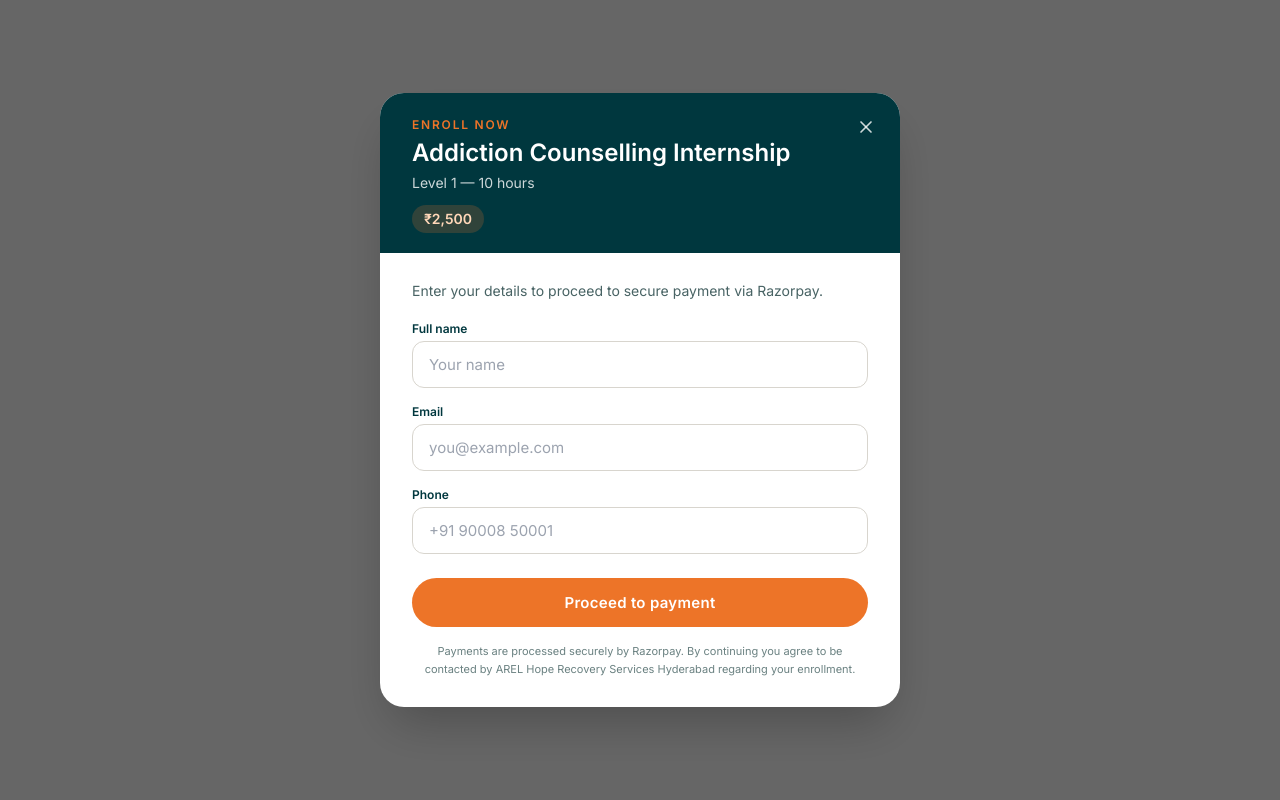
Test: EnrollmentModal › shows validation error for short name
In the field labelled "Full name": (640, 365) [412,341,868,388], type "A"
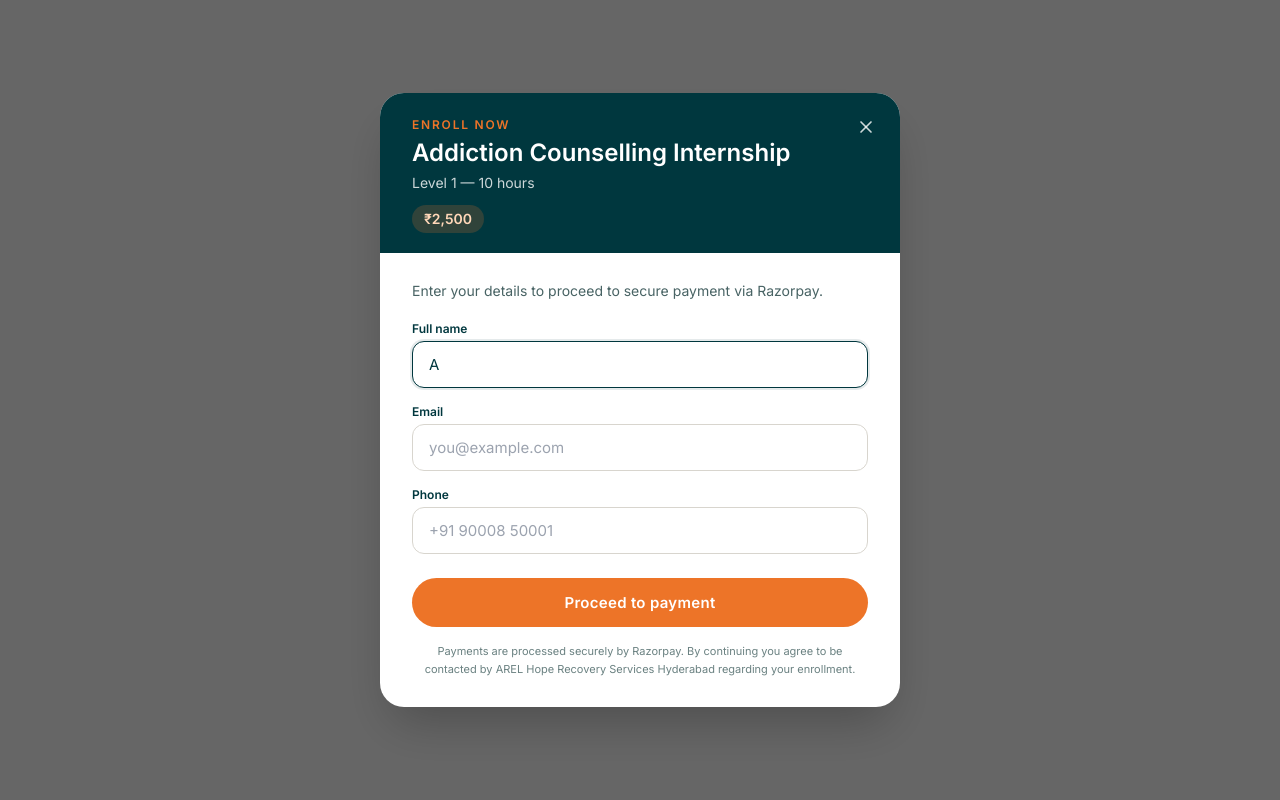
In the field labelled "Email": (640, 448) [412,424,868,471], type "test@test.com"
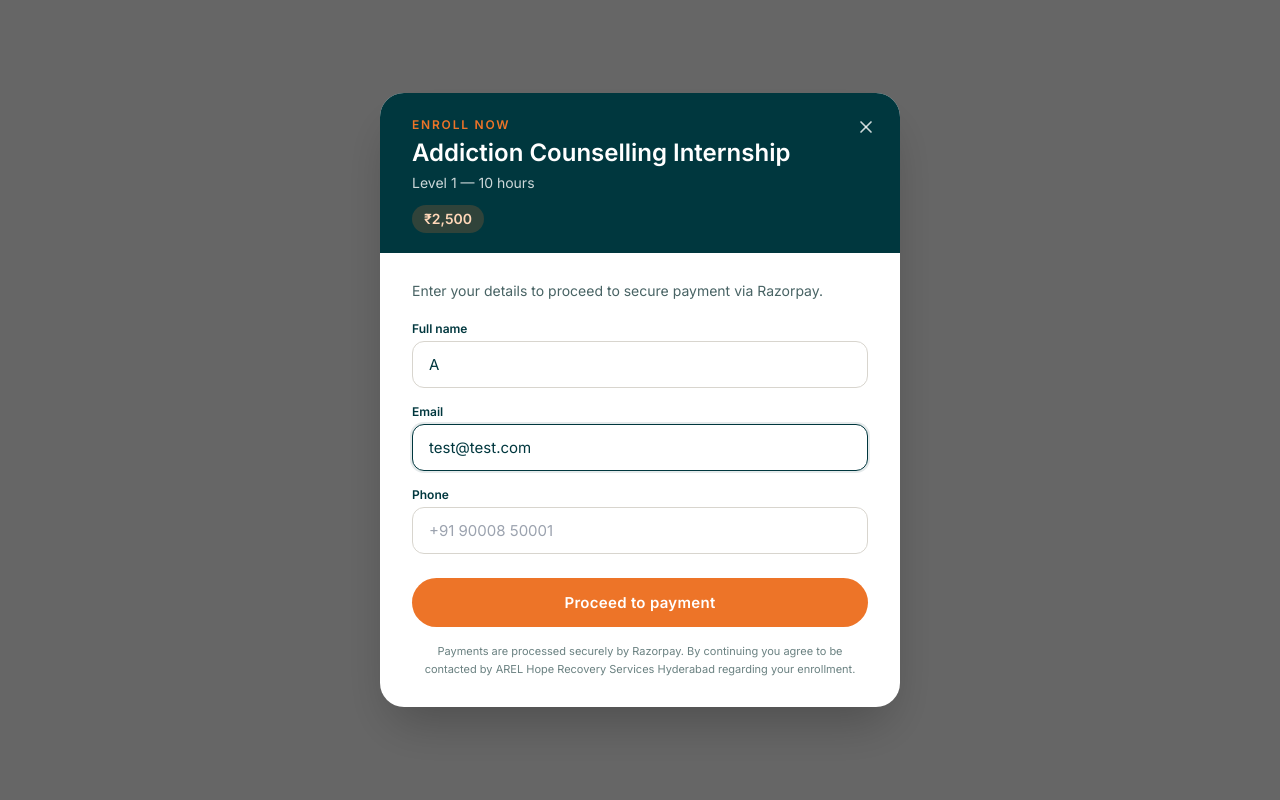
In the field labelled "Phone": (640, 531) [412,507,868,554], type "9876543210"
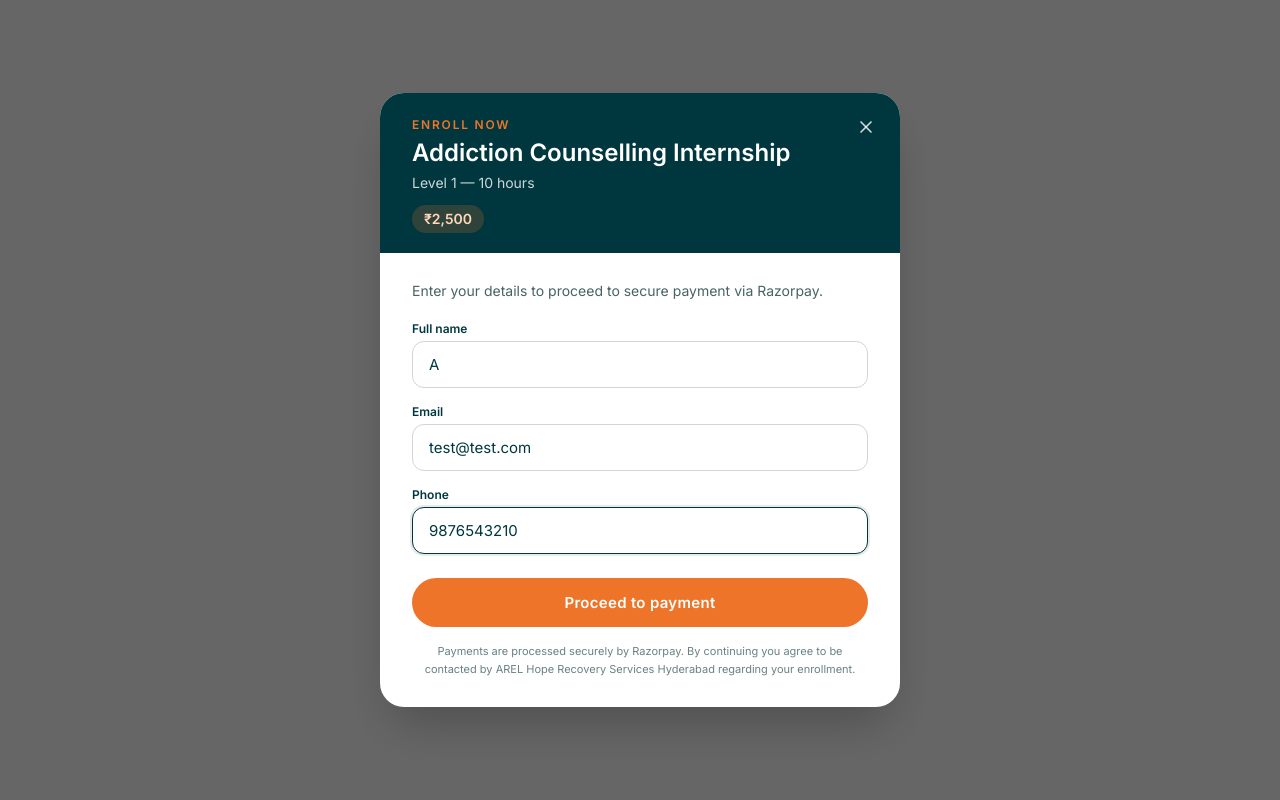
Click the button "Proceed to payment": click(640, 603) [412,578,868,627]
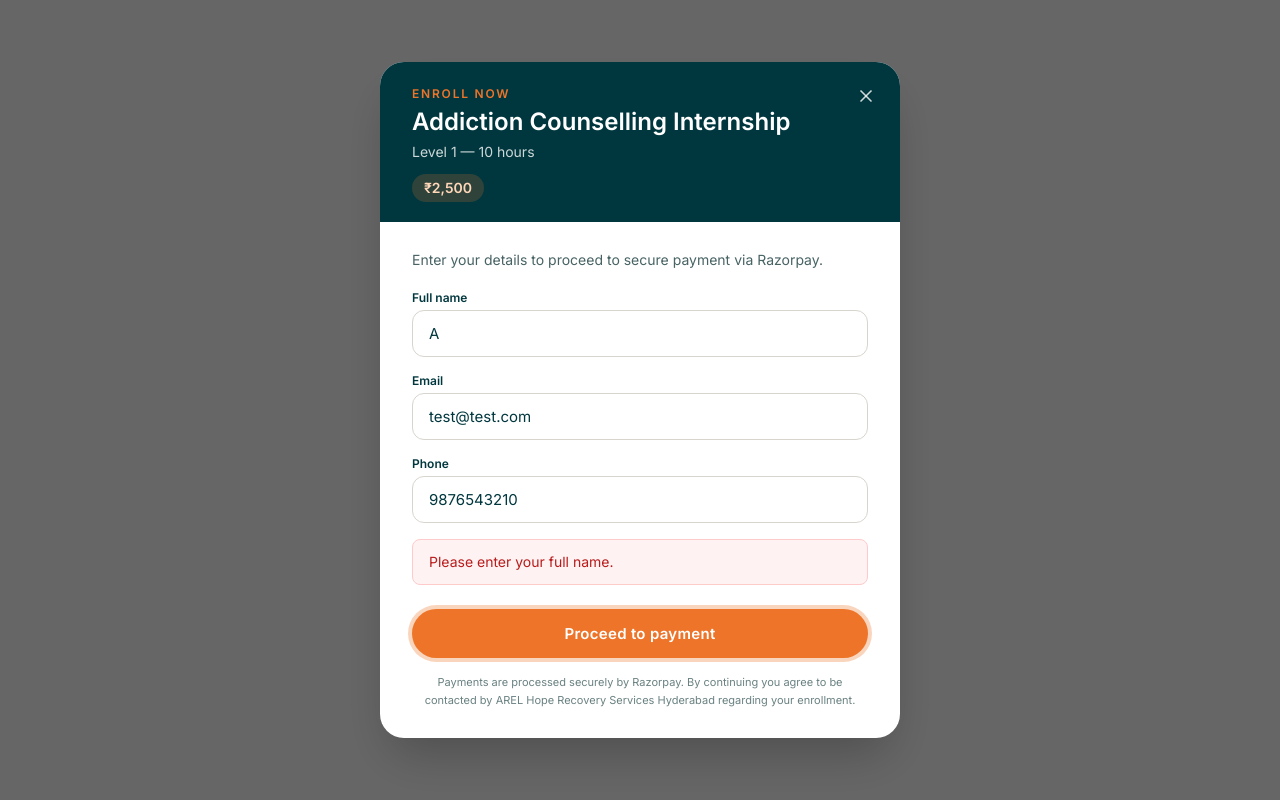
expect the message reads "Please enter your full name.": met, box [429,553,614,570]
